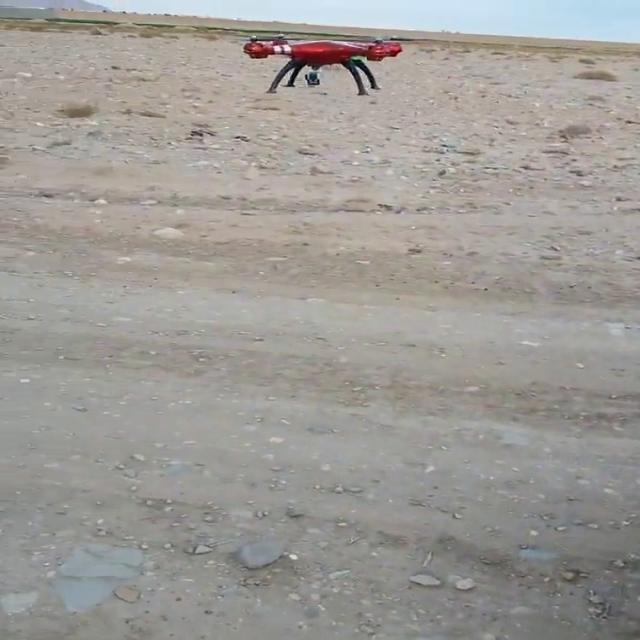drone: (225, 28, 425, 100)
